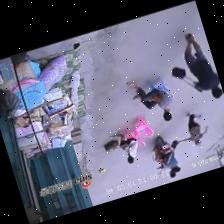person: (183, 33, 222, 97), (126, 81, 171, 120), (178, 113, 207, 145), (112, 132, 137, 163), (153, 148, 180, 172), (154, 150, 174, 177), (215, 145, 223, 166)
